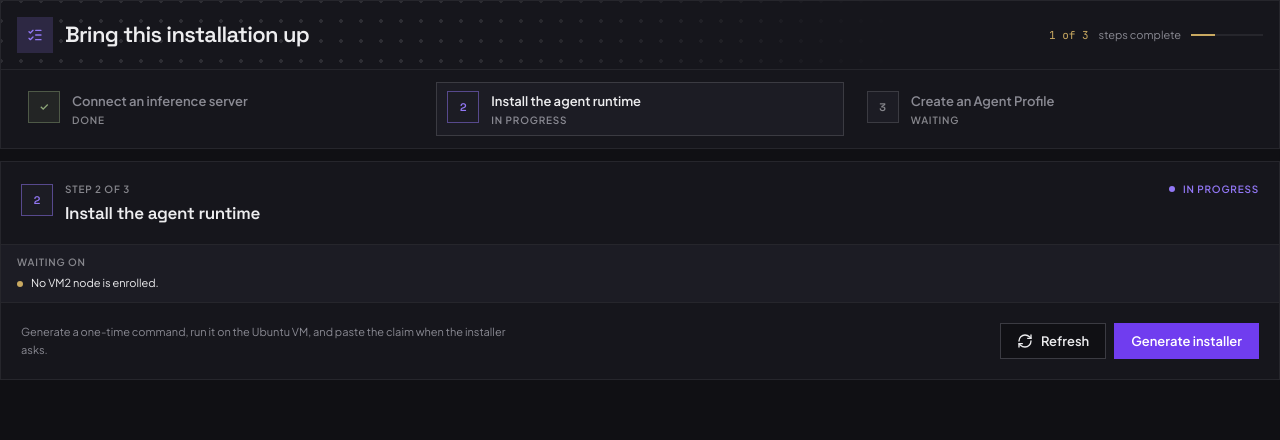
the setup wizard › keeps a completed step collapsed but re-openable
The width and height of the screenshot is (1280, 440).
Step 1. Click the button "✓ Connect an inference server Done" → (221, 109), box [17,82,424,136]
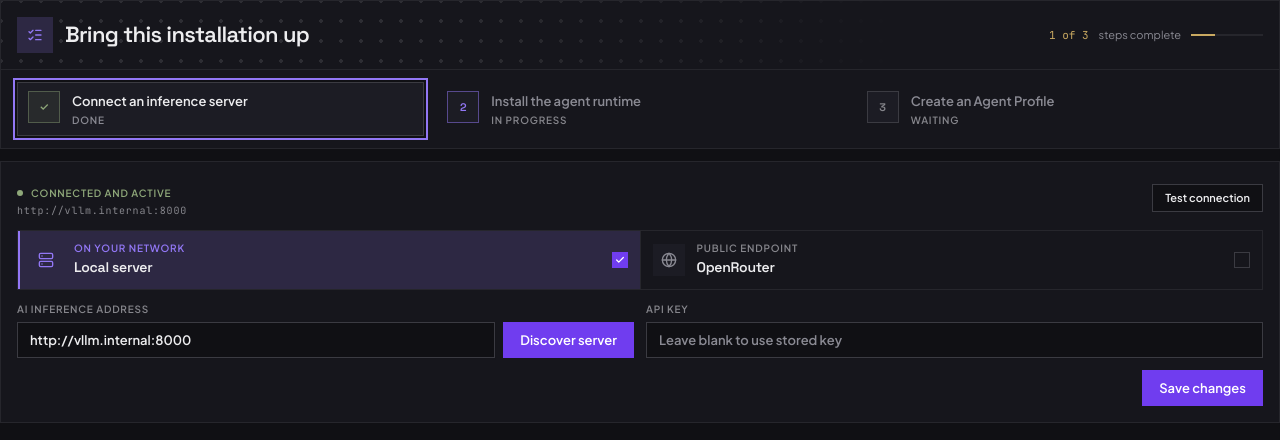
Expected: the element named "Step 1: Connect an inference server" is shown, [0,161,1279,423]
